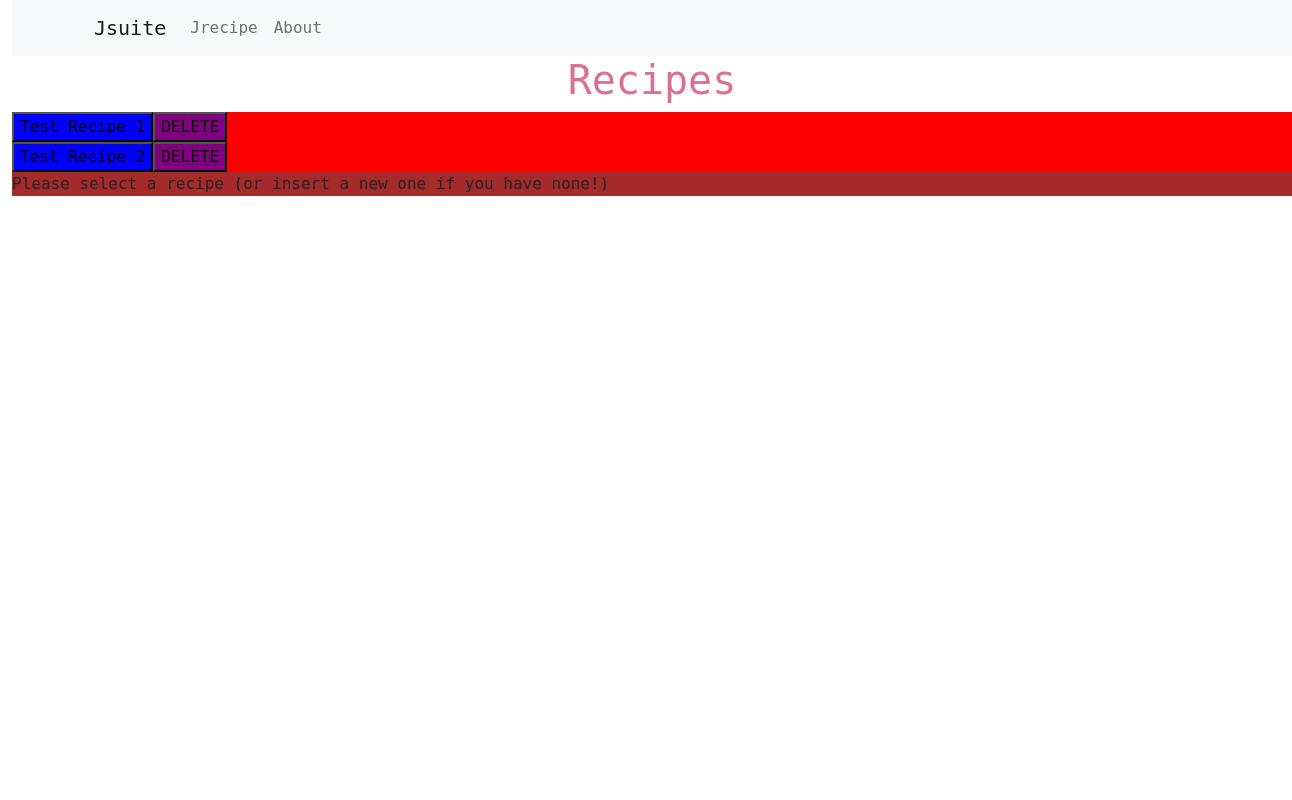
Test: given click on recipe view button, displays the view
The image size is (1292, 800).
Click the button "Test Recipe 1": click(83, 127) [12,112,153,142]
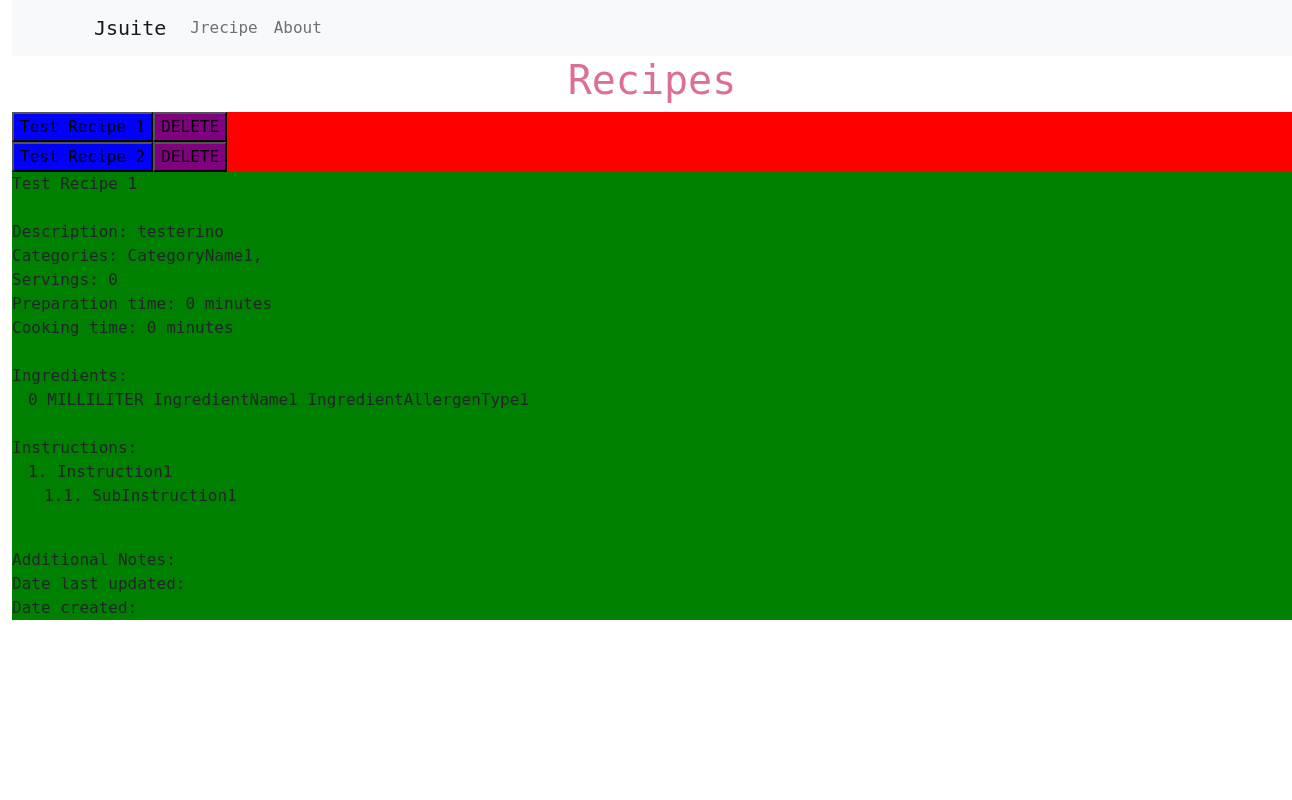
expect the element with test id "recipe-view" is shown: met, box [12,172,1291,620]
